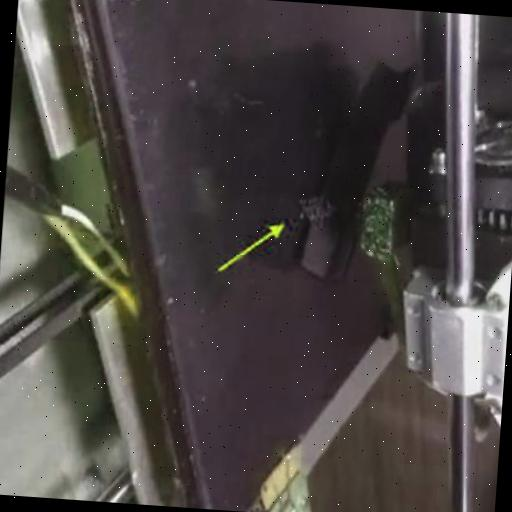spaghetti: (296, 194, 335, 232)
